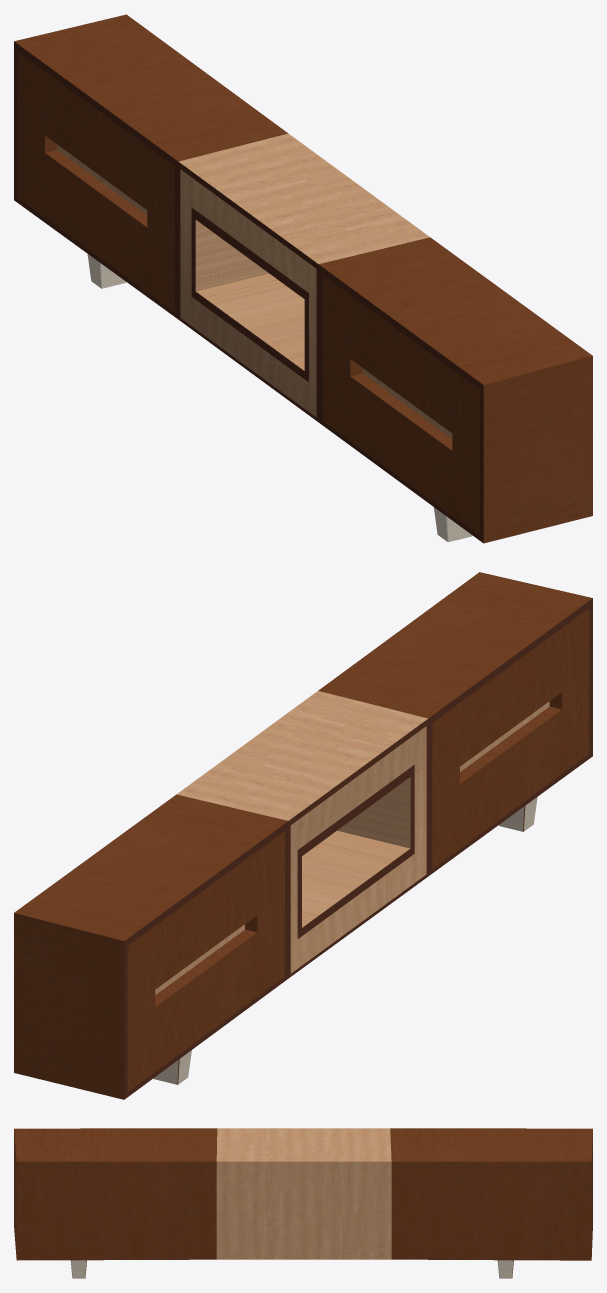
File: Television_Console.fbx
3 renders of one model, top to bottom at view 1: azimuth 30°, elevation 25°; view 2: azimuth 150°, elevation 25°; view 3: azimuth 270°, elevation 25°, orthographic. The views are drawn at different scales.
Parts seen in each view (by area): view 1: TV_Console; view 2: TV_Console; view 3: TV_Console.
Boxes of the visible parts, x1,y1,x2,y2 form: TV_Console: (14,14,592,543); TV_Console: (14,572,592,1099); TV_Console: (14,1128,592,1278).
Size of the model in its own units: 60.15 by 100 by 438.
